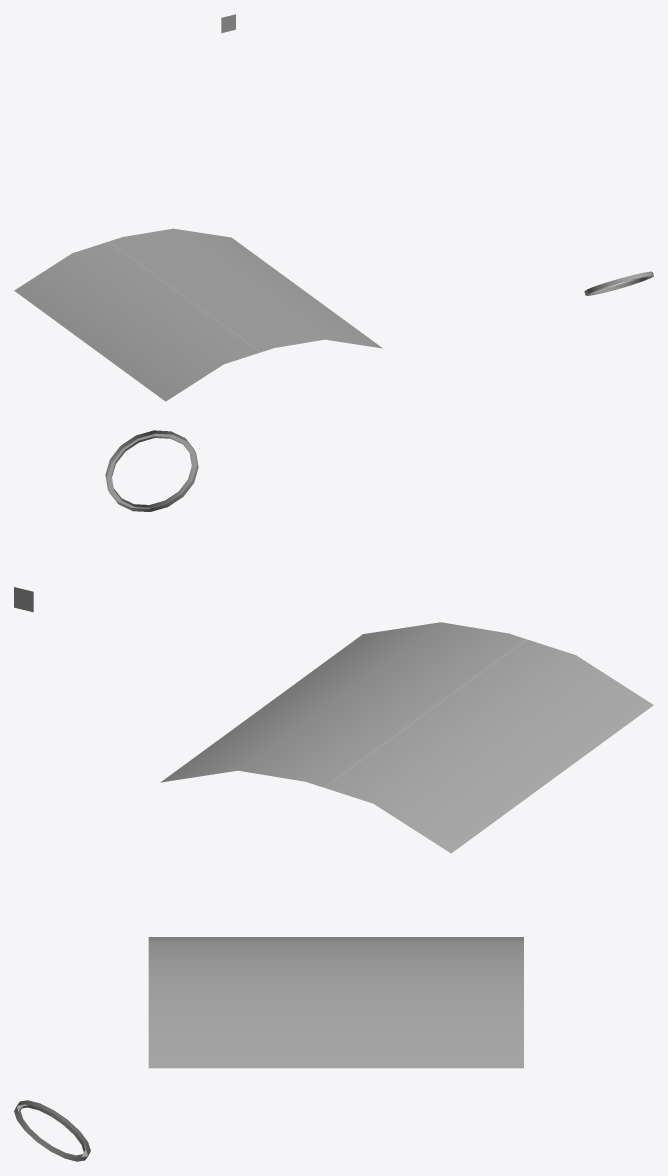
Rendered from CoffeeMachine_25_CoffeeMachine_25_0_GeomSubset_2.obj.
3 views of the same model, one above another, from view 1: azimuth 30°, elevation 25°; view 2: azimuth 150°, elevation 25°; view 3: azimuth 270°, elevation 25° (orthographic). The views are drawn at different scales.
Visible parts, largest first — view 1: CoffeeMachine_25_CoffeeMachine_25_0_GeomSubset_2; view 2: CoffeeMachine_25_CoffeeMachine_25_0_GeomSubset_2; view 3: CoffeeMachine_25_CoffeeMachine_25_0_GeomSubset_2.
Boxes of the visible parts, x1=… form: CoffeeMachine_25_CoffeeMachine_25_0_GeomSubset_2: x1=14, y1=14, x2=653, y2=401; CoffeeMachine_25_CoffeeMachine_25_0_GeomSubset_2: x1=14, y1=430, x2=653, y2=853; CoffeeMachine_25_CoffeeMachine_25_0_GeomSubset_2: x1=14, y1=937, x2=523, y2=1161.
Size of the model in its own units: 0.3019 by 0.1107 by 0.3038.
